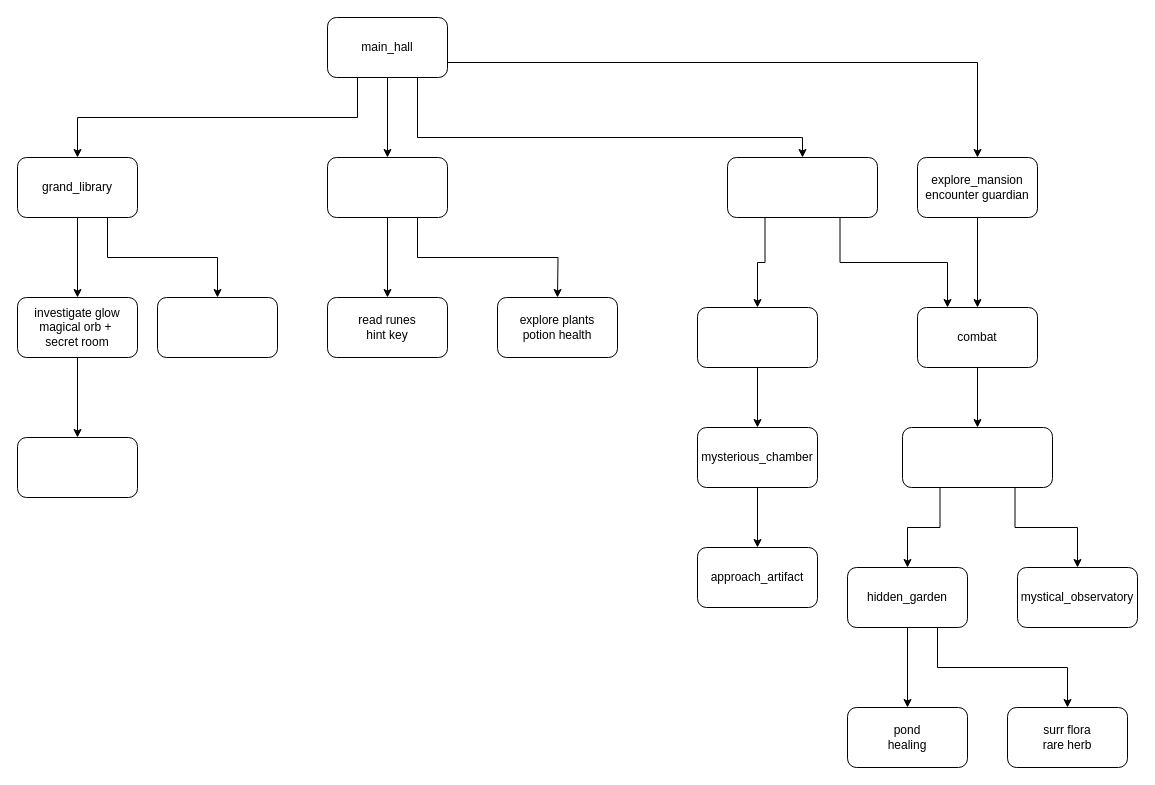
The diagram is 1155 pixels wide and 785 high, and some of its shapes have lost their labels. The shapes that lost their labels are listed below. From the top down, each one's centre as x and y in pixels, then its label:
the point at 387,187: mysterious_atrium
the point at 802,187: underground_catacombs
the point at 217,327: search book m hist ancient tome artifact
the point at 757,337: secret_passage need key to open
the point at 77,467: secret_room crystal power artifact
the point at 977,457: post_combat_scenario
